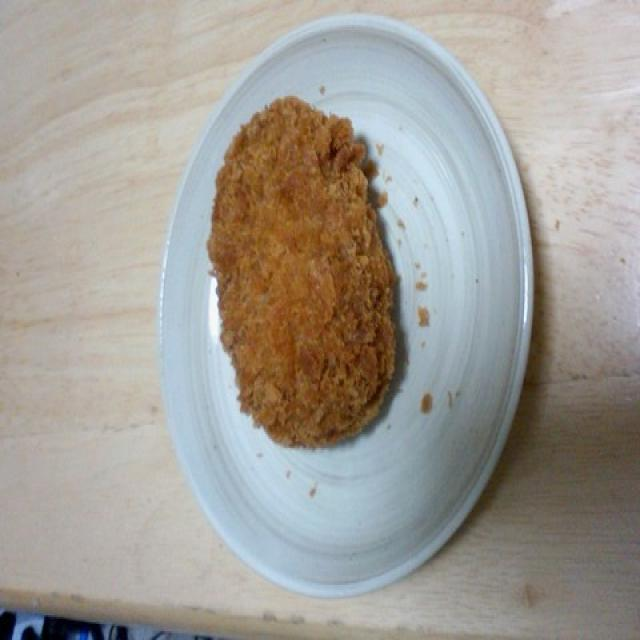炸货点心: (152, 6, 528, 582)
